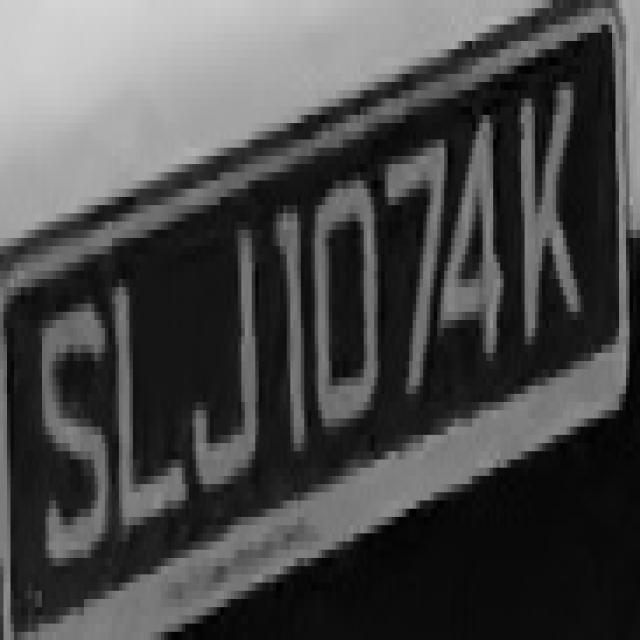0: (304, 172, 378, 460)
1: (269, 156, 315, 500)
4: (441, 107, 514, 369)
7: (370, 140, 454, 418)
J: (178, 213, 259, 525)
K: (510, 82, 594, 369)
L: (108, 270, 189, 542)
S: (31, 271, 105, 591)
